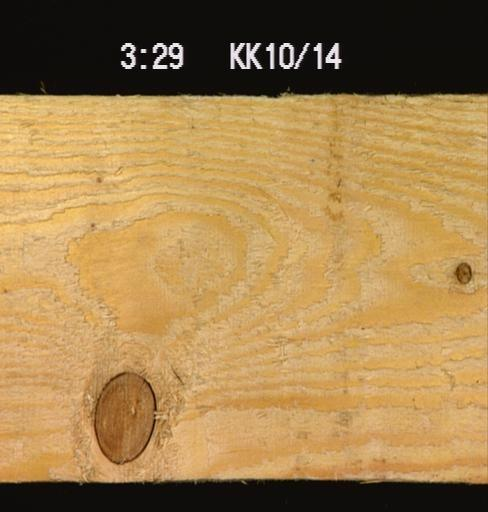dry_knot: (90, 367, 158, 466), (451, 258, 473, 286)
